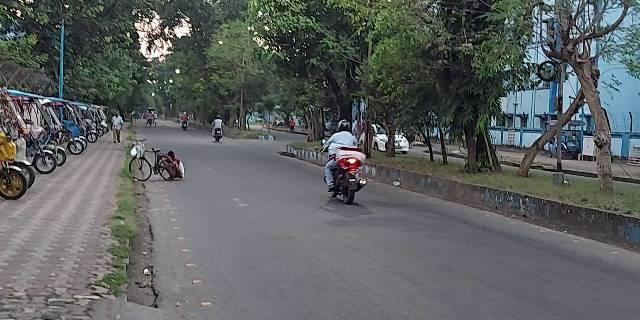Cycle: (127, 144, 180, 186)
Motorbike: (322, 121, 364, 202), (210, 116, 225, 145)
